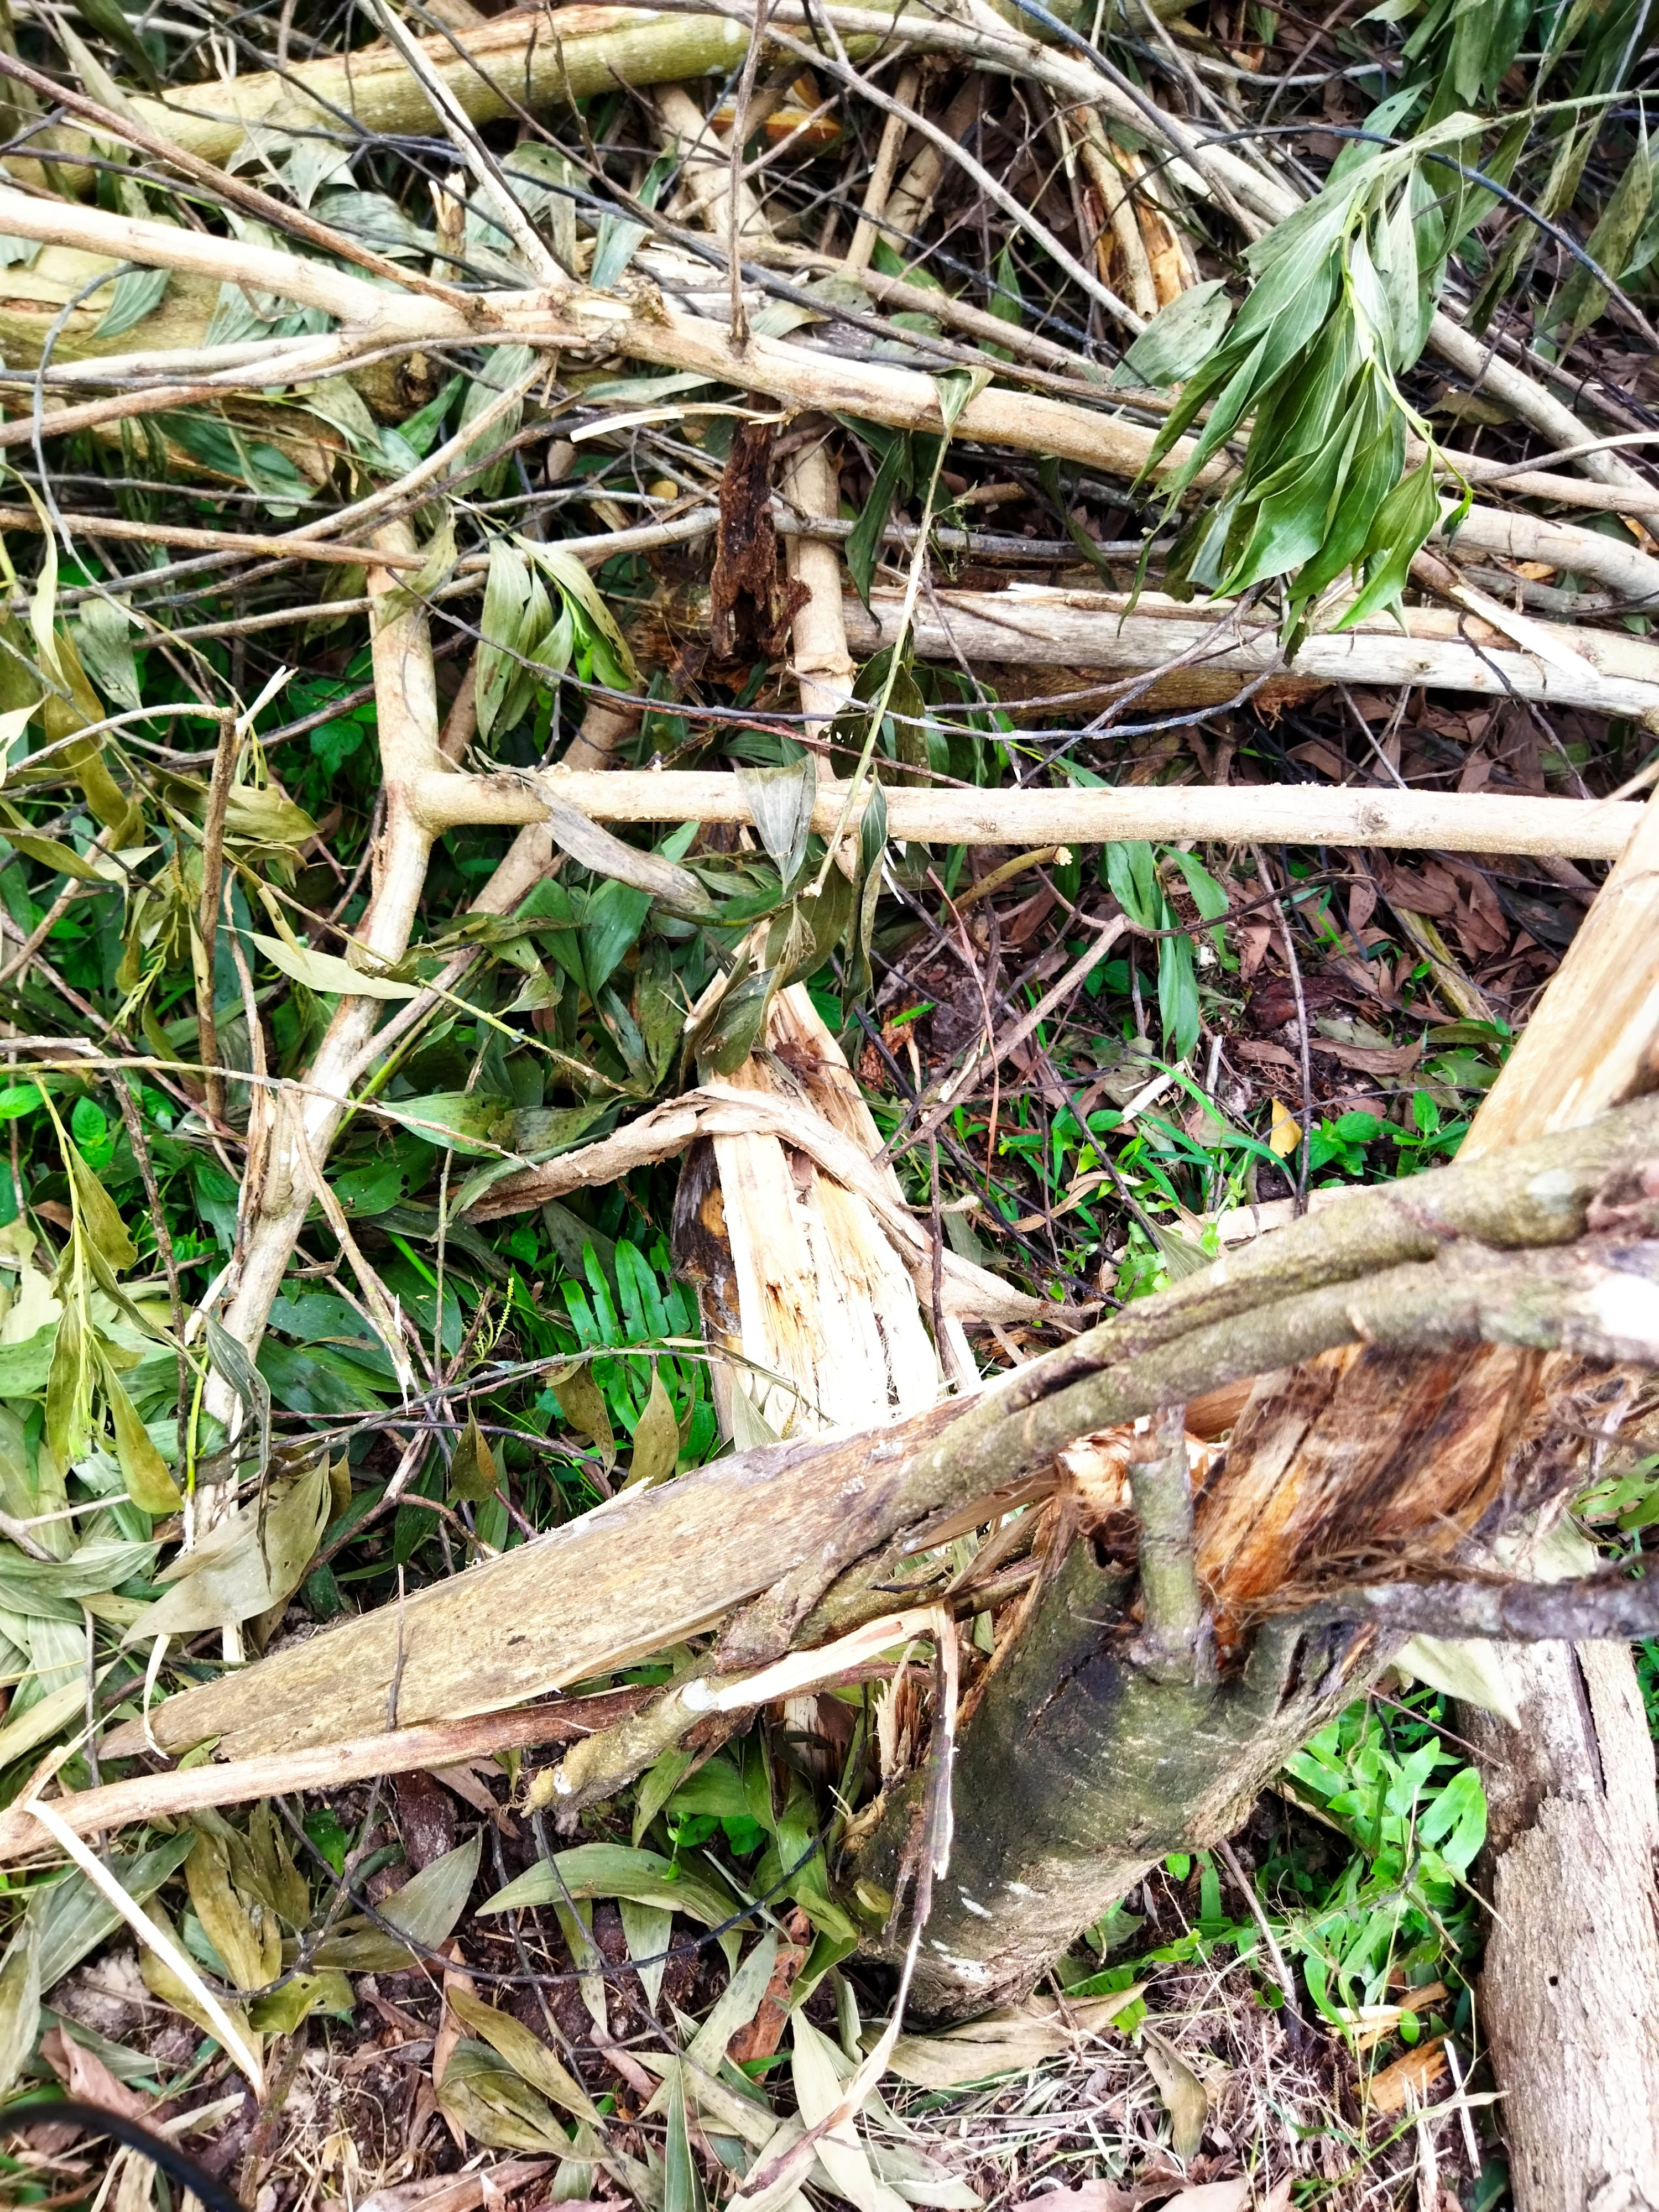Mammals Attack: (1190, 880, 1656, 1695), (664, 1075, 1000, 1655)
